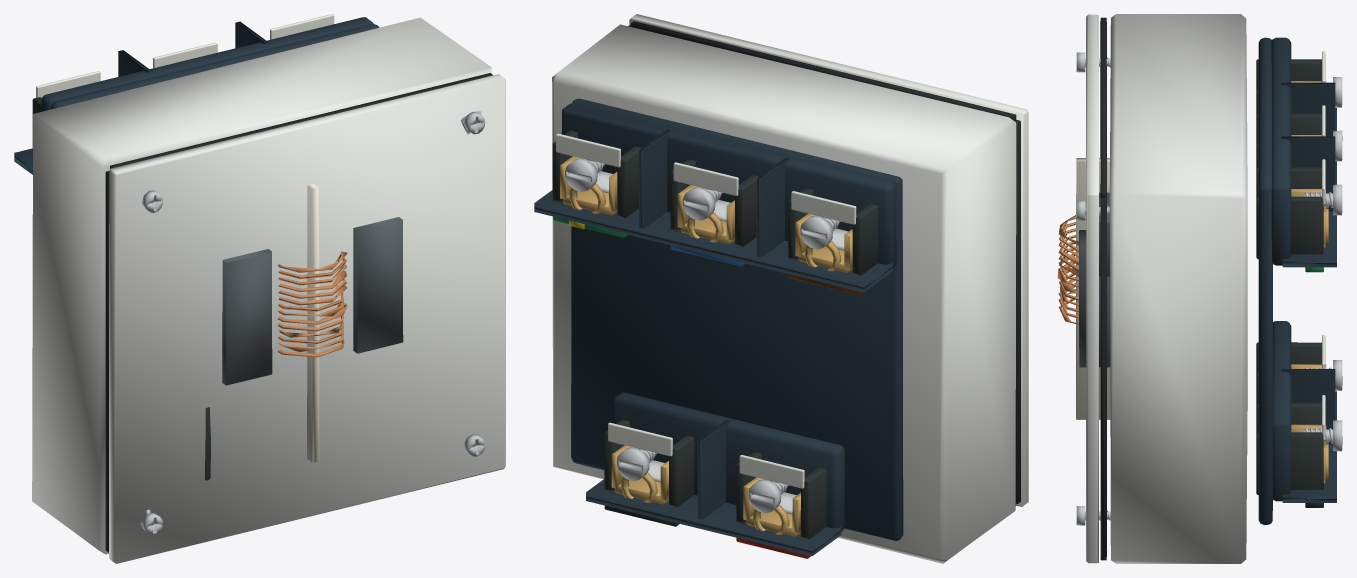
Rendered from driver_default.low.glb.
The picture shows the model from 3 angles, left to right: view 1: azimuth 30°, elevation 25°; view 2: azimuth 150°, elevation 25°; view 3: azimuth 270°, elevation 25°; orthographic projection. The views are drawn at different scales.
Visible parts, largest first — view 1: Removable converter lid, Electronic converter chassis, detail:converter-specific-core · Detail ferrite magnetic cor, part:terminals · Original a463fd81, detail:converter-specific-core · Detail oxygen-free copper, Primary secondary barrier, detail:enclosure-gasket-and-fixings · Detail rubber gasket, detail:enclosure-gasket-and-fixings · Detail zinc plated fix, Moulded terminal legend pad, Moulded terminal legend pad.001, Moulded terminal legend pad.002; view 2: part:terminals · Original a463fd81, Electronic converter chassis, Removable converter lid, detail:enclosure-gasket-and-fixings · Detail rubber gasket, detail:terminal-clamp:- · Detail moulded engineering polymer, detail:terminal-clamp:+ · Detail moulded engineering polymer, detail:terminal-clamp:L · Detail moulded engineering polymer, detail:terminal-clamp:PE · Detail moulded engineering polyme, detail:terminal-clamp:N · Detail moulded engineering polymer, detail:terminal-clamp:N · Detail machined brass, detail:terminal-clamp:- · Detail machined brass, detail:terminal-clamp:L · Detail machined brass (+12 smaller); view 3: Electronic converter chassis, part:terminals · Original a463fd81, Removable converter lid, detail:enclosure-gasket-and-fixings · Detail rubber gasket, detail:terminal-clamp:- · Detail moulded engineering polymer, detail:terminal-clamp:PE · Detail moulded engineering polyme, detail:converter-specific-core · Detail ferrite magnetic cor, Primary secondary barrier, detail:converter-specific-core · Detail oxygen-free copper, detail:terminal-clamp:+ · Detail moulded engineering polymer, detail:terminal-clamp:L · Detail moulded engineering polymer, detail:terminal-clamp:N · Detail moulded engineering polymer (+5 smaller).
Boxes of the visible parts, box(x1,y1,x2,y2) form: Removable converter lid: box(109, 74, 505, 563); Electronic converter chassis: box(32, 17, 491, 554); detail:converter-specific-core · Detail ferrite magnetic cor: box(222, 217, 403, 385); part:terminals · Original a463fd81: box(14, 17, 379, 174); detail:converter-specific-core · Detail oxygen-free copper: box(277, 251, 347, 357); Primary secondary barrier: box(307, 184, 319, 462); detail:enclosure-gasket-and-fixings · Detail rubber gasket: box(105, 73, 492, 552); detail:enclosure-gasket-and-fixings · Detail zinc plated fix: box(142, 111, 485, 535); Moulded terminal legend pad: box(36, 71, 100, 97); Moulded terminal legend pad.001: box(153, 42, 217, 68); Moulded terminal legend pad.002: box(270, 14, 334, 39); part:terminals · Original a463fd81: box(534, 98, 903, 555); Electronic converter chassis: box(552, 24, 1016, 563); Removable converter lid: box(629, 14, 1028, 506); detail:enclosure-gasket-and-fixings · Detail rubber gasket: box(628, 21, 1020, 505); detail:terminal-clamp:- · Detail moulded engineering polymer: box(604, 419, 694, 526); detail:terminal-clamp:+ · Detail moulded engineering polymer: box(736, 452, 826, 539); detail:terminal-clamp:L · Detail moulded engineering polymer: box(788, 188, 877, 275); detail:terminal-clamp:PE · Detail moulded engineering polyme: box(552, 130, 640, 218); detail:terminal-clamp:N · Detail moulded engineering polymer: box(670, 159, 758, 247); detail:terminal-clamp:N · Detail machined brass: box(677, 185, 734, 244); detail:terminal-clamp:- · Detail machined brass: box(611, 445, 668, 504); detail:terminal-clamp:L · Detail machined brass: box(795, 213, 852, 272); Electronic converter chassis: box(1109, 14, 1247, 563); part:terminals · Original a463fd81: box(1258, 37, 1336, 525); Removable converter lid: box(1086, 14, 1098, 563); detail:enclosure-gasket-and-fixings · Detail rubber gasket: box(1100, 17, 1106, 560); detail:terminal-clamp:- · Detail moulded engineering polymer: box(1256, 402, 1324, 507); detail:terminal-clamp:PE · Detail moulded engineering polyme: box(1256, 167, 1324, 259); detail:converter-specific-core · Detail ferrite magnetic cor: box(1079, 192, 1110, 367); Primary secondary barrier: box(1076, 158, 1110, 419); detail:converter-specific-core · Detail oxygen-free copper: box(1057, 215, 1078, 324); detail:terminal-clamp:+ · Detail moulded engineering polymer: box(1256, 342, 1321, 403); detail:terminal-clamp:L · Detail moulded engineering polymer: box(1256, 59, 1321, 113); detail:terminal-clamp:N · Detail moulded engineering polymer: box(1256, 113, 1321, 167).
Bounding box in the file's own units: 0.7123 × 0.6842 × 0.4727.
